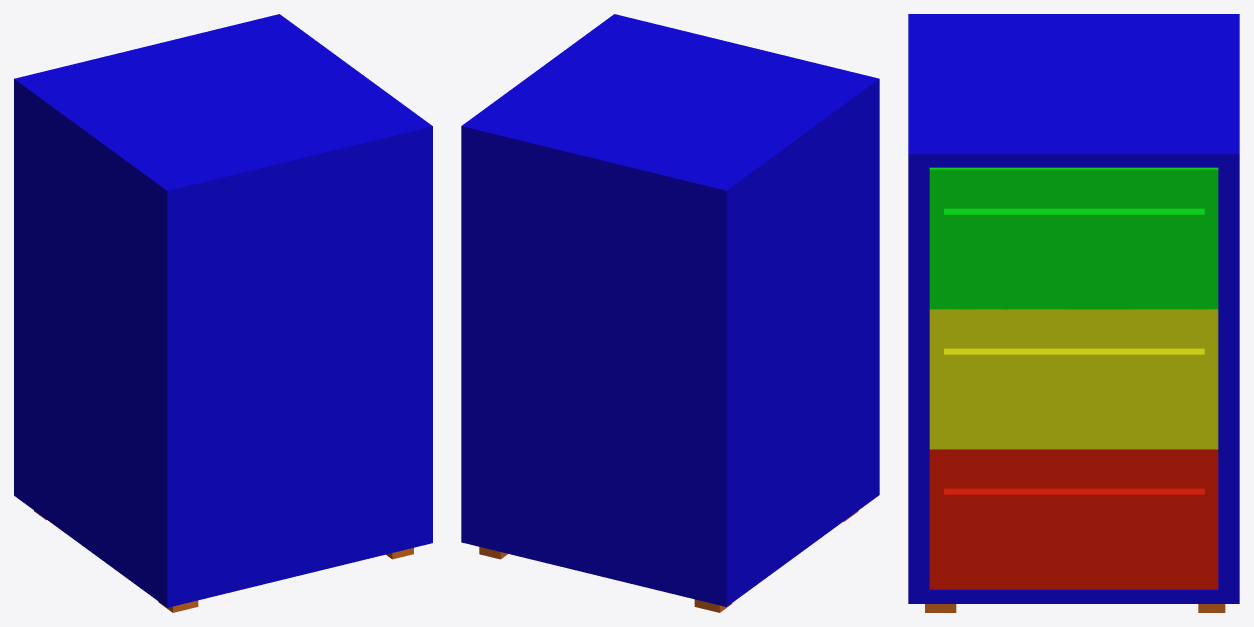
File: Filecase final.fbx
3 views of the same model, side by side, from view 1: azimuth 30°, elevation 25°; view 2: azimuth 150°, elevation 25°; view 3: azimuth 270°, elevation 25° (orthographic). The views are drawn at different scales.
Parts seen in each view (by area): view 1: Cube; view 2: Cube; view 3: Cube, Cube.003, Cube.001, Cube.002.
Boxes of the visible parts, box(x1,y1,x2,y2) form: Cube: box(14, 14, 432, 612); Cube: box(461, 14, 879, 612); Cube: box(908, 14, 1239, 612); Cube.003: box(929, 167, 1218, 309); Cube.001: box(929, 449, 1218, 589); Cube.002: box(929, 309, 1218, 449).
Size of the model in its own units: 60.15 by 93.01 by 60.
